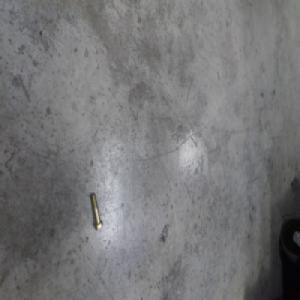Bolt: (89, 192, 103, 232)
